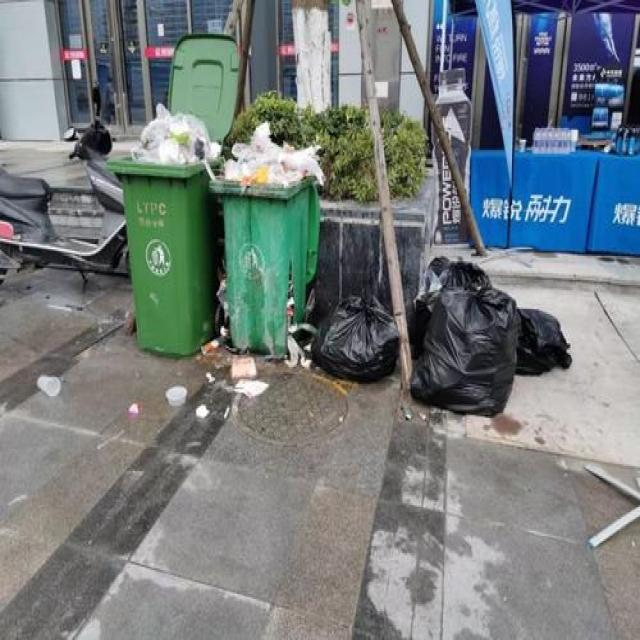garbage: (286, 259, 570, 416), (126, 272, 268, 416)
overflow: (105, 101, 220, 353), (207, 118, 324, 350)
